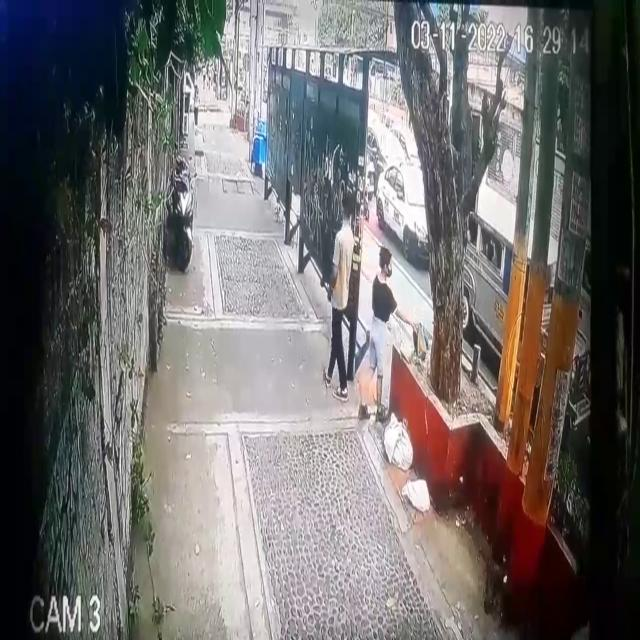garbage_dumping: (412, 314, 432, 364)
